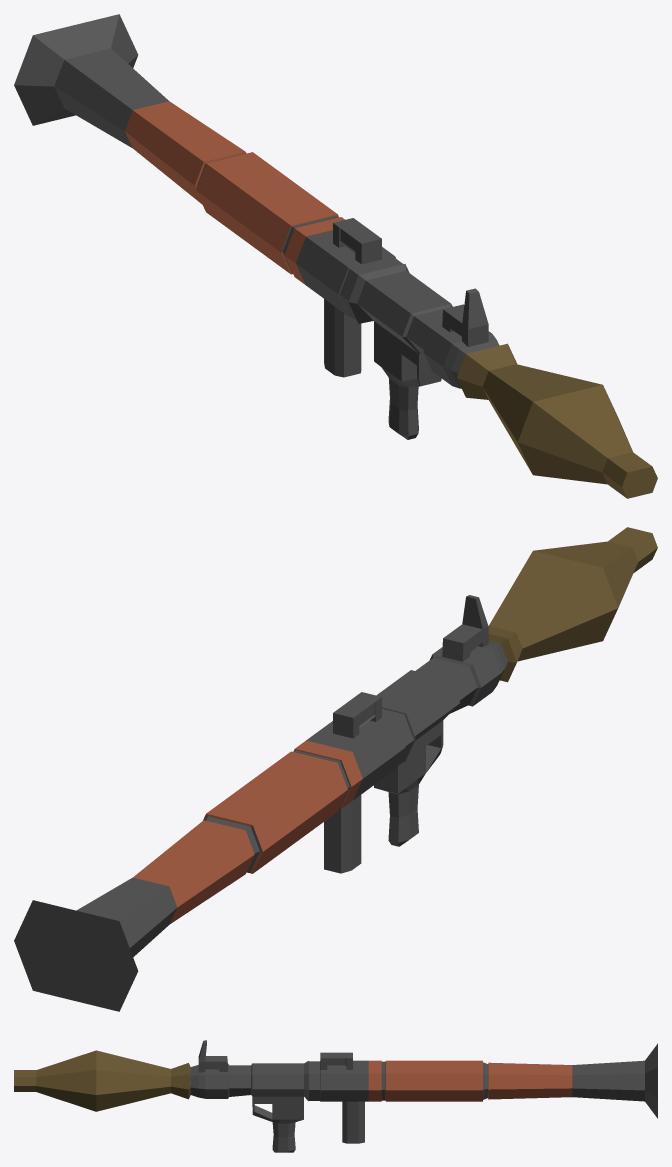
File: Bazooka.fbx
The picture shows the model from 3 angles, top to bottom: view 1: azimuth 30°, elevation 25°; view 2: azimuth 150°, elevation 25°; view 3: azimuth 270°, elevation 25°; orthographic projection. The views are drawn at different scales.
Parts seen in each view (by area): view 1: Cube.029; view 2: Cube.029; view 3: Cube.029.
Part boxes in pixels (<box>): Cube.029: <box>14,14,657,498</box>; Cube.029: <box>14,527,657,1011</box>; Cube.029: <box>14,1040,657,1152</box>.
Bounding box in the file's own units: 11.32 × 16.78 × 88.88.
